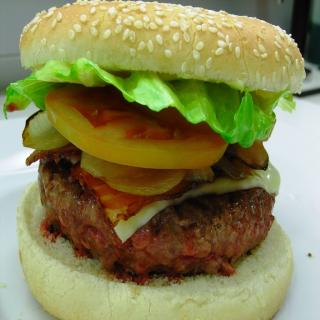Hamburger: (4, 0, 308, 320)
